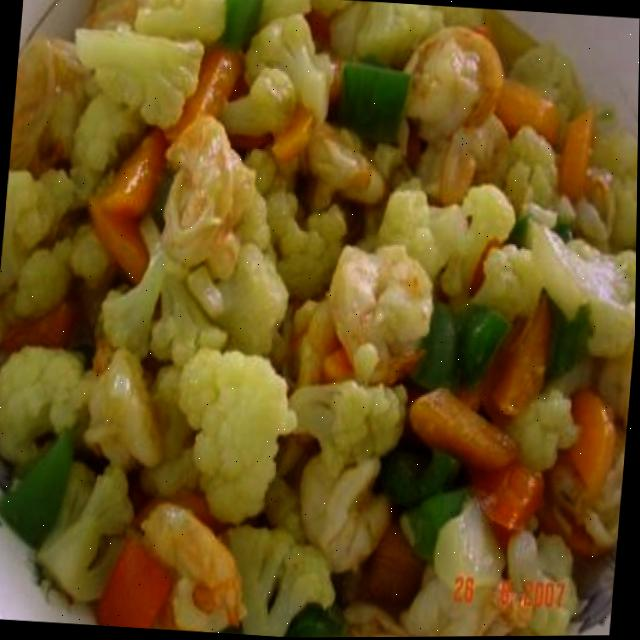蔬菜料理: (0, 0, 637, 621)
